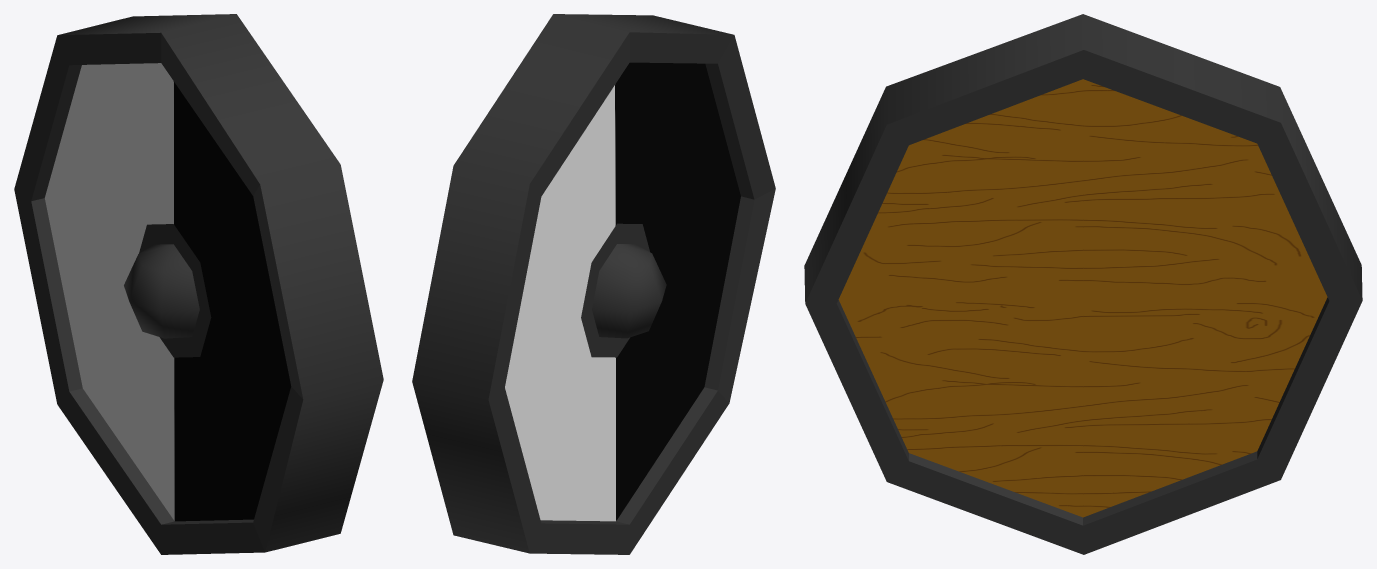
File: EscudoPartidoVikingo.FBX
The picture shows the model from 3 angles, left to right: view 1: azimuth 30°, elevation 25°; view 2: azimuth 150°, elevation 25°; view 3: azimuth 270°, elevation 25°; orthographic projection. The views are drawn at different scales.
Parts seen in each view (by area): view 1: BordeEscudo001, CuerpoEscudo002, RemacheCentralEscudo001; view 2: BordeEscudo001, CuerpoEscudo002, RemacheCentralEscudo001; view 3: CuerpoEscudo003, BordeEscudo001.
Boxes of the visible parts, <box> form: BordeEscudo001: <box>14,14,383,554</box>; CuerpoEscudo002: <box>45,63,291,521</box>; RemacheCentralEscudo001: <box>124,224,211,357</box>; BordeEscudo001: <box>412,14,775,554</box>; CuerpoEscudo002: <box>505,62,740,521</box>; RemacheCentralEscudo001: <box>581,223,666,357</box>; CuerpoEscudo003: <box>838,79,1327,517</box>; BordeEscudo001: <box>804,14,1362,554</box>.
Size of the model in its own units: 17.88 by 80.38 by 80.49.
